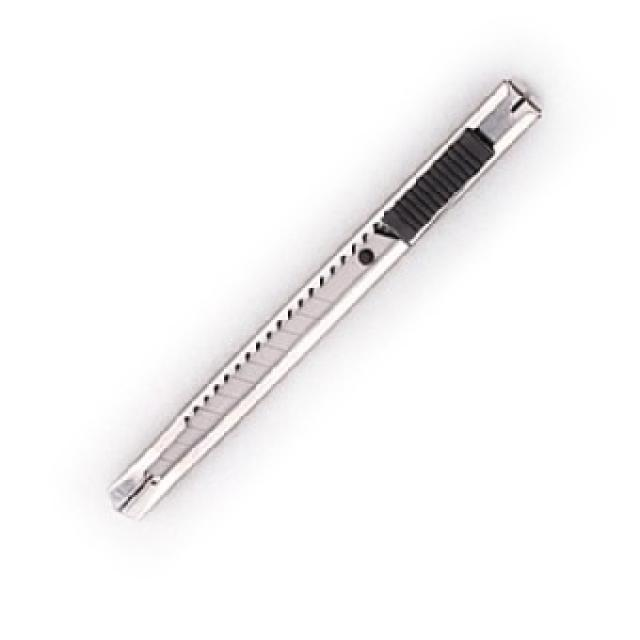cutter: (98, 72, 548, 536)
